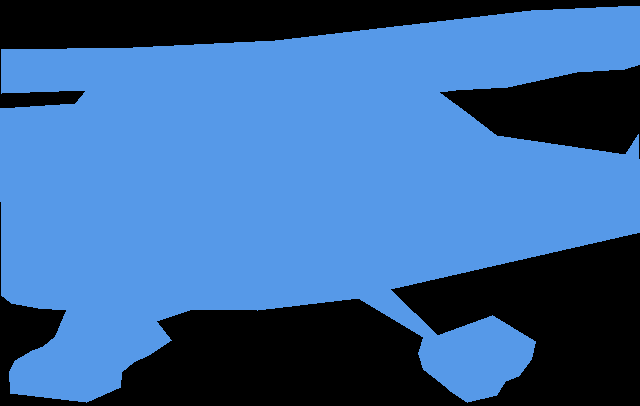Airplane: (0, 5, 640, 402)
